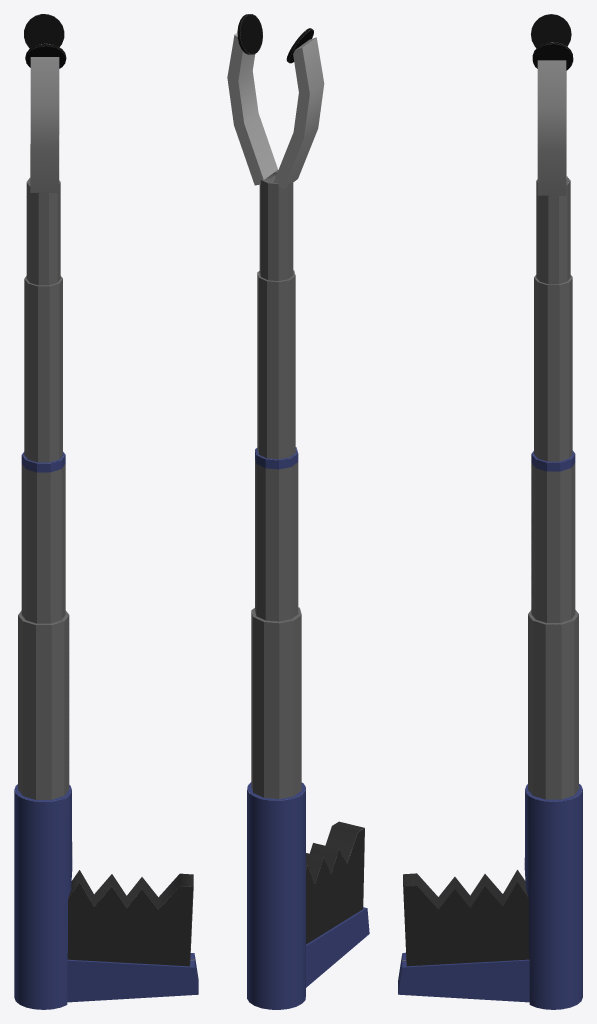
File: TrashGrabber.fbx
The picture shows the model from 3 angles, left to right: view 1: azimuth 90°, elevation 25°; view 2: azimuth 150°, elevation 25°; view 3: azimuth 270°, elevation 25°; orthographic projection.
Visible parts, largest first — view 1: handle, depresser, pCylinder2, pCylinder3, pCylinder4, right_grab, pCylinder5, left_sucker, right_sucker; view 2: handle, pCylinder2, pCylinder3, pCylinder4, depresser, left_grab, right_grab, pCylinder5, left_sucker; view 3: handle, depresser, pCylinder2, pCylinder3, pCylinder4, left_grab, pCylinder5, right_sucker, left_sucker.
Part boxes in pixels (left/top/right/bottom): handle: left=14, top=784, right=198, bottom=1009; depresser: left=67, top=870, right=193, bottom=966; pCylinder2: left=18, top=610, right=69, bottom=799; pCylinder3: left=21, top=451, right=65, bottom=623; pCylinder4: left=24, top=276, right=62, bottom=462; right_grab: left=30, top=57, right=59, bottom=192; pCylinder5: left=26, top=178, right=60, bottom=285; left_sucker: left=24, top=14, right=64, bottom=48; right_sucker: left=25, top=43, right=66, bottom=68; handle: left=247, top=782, right=369, bottom=1009; pCylinder2: left=251, top=607, right=301, bottom=798; pCylinder3: left=255, top=447, right=298, bottom=621; pCylinder4: left=257, top=270, right=295, bottom=459; depresser: left=306, top=821, right=364, bottom=944; left_grab: left=227, top=33, right=277, bottom=185; right_grab: left=273, top=37, right=324, bottom=189; pCylinder5: left=259, top=170, right=293, bottom=280; left_sucker: left=237, top=14, right=262, bottom=54; handle: left=398, top=784, right=582, bottom=1009; depresser: left=403, top=870, right=529, bottom=966; pCylinder2: left=528, top=610, right=578, bottom=799; pCylinder3: left=531, top=450, right=575, bottom=622; pCylinder4: left=534, top=275, right=572, bottom=461; left_grab: left=537, top=60, right=566, bottom=195; pCylinder5: left=536, top=176, right=570, bottom=284; right_sucker: left=531, top=14, right=571, bottom=47; left_sucker: left=532, top=42, right=573, bottom=70.
Bounding box in the file's own units: 14.66 × 165 × 28.53.
Materials: 1 (1 with a texture image).
